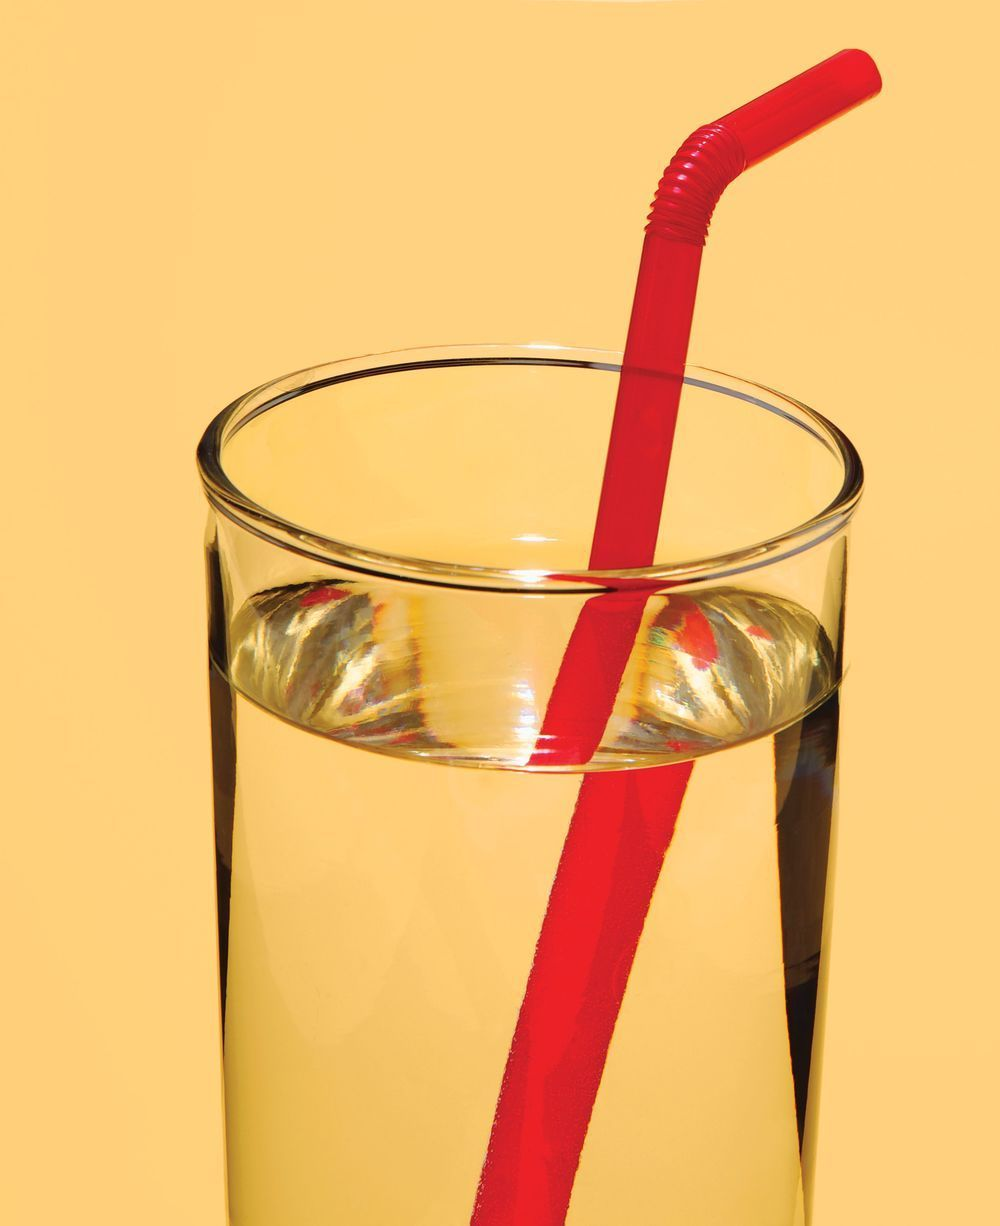glass of water: (202, 367, 829, 1226)
